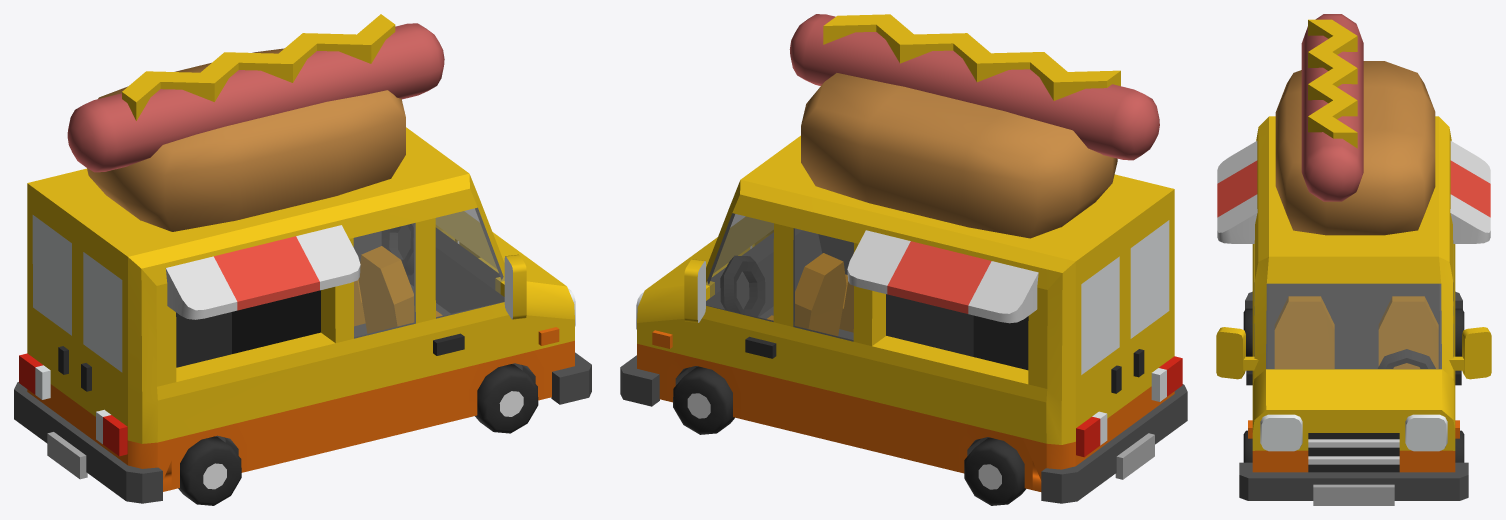
The model's file is car_hotdog_s01.FBX.
The picture shows the model from 3 angles, left to right: view 1: azimuth 30°, elevation 25°; view 2: azimuth 150°, elevation 25°; view 3: azimuth 270°, elevation 25°; orthographic projection. The views are drawn at different scales.
Parts seen in each view (by area): view 1: car_hotdog_s01; view 2: car_hotdog_s01; view 3: car_hotdog_s01.
Boxes of the visible parts, <box> form: car_hotdog_s01: <box>14,14,591,505</box>; car_hotdog_s01: <box>620,14,1187,505</box>; car_hotdog_s01: <box>1216,14,1491,505</box>.
Size of the model in its own units: 405 by 241 by 315.
2 materials, 1 textured.
